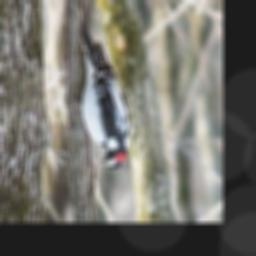Woodpecker: (73, 19, 133, 169)
